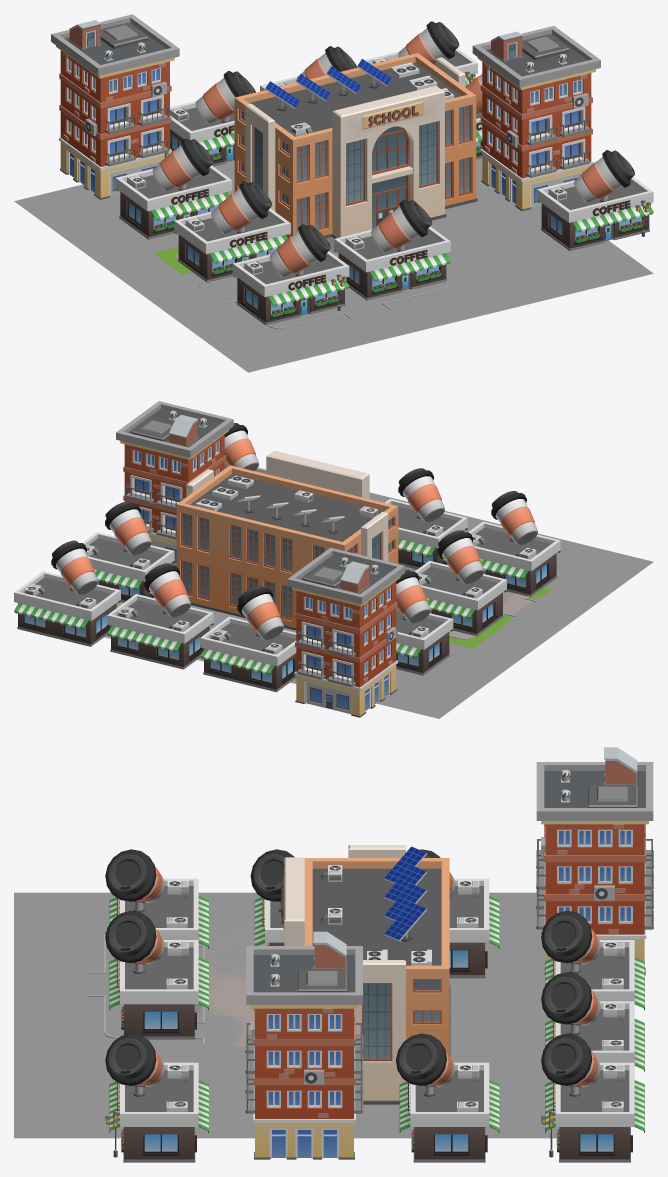
The model's file is block_commercial.glb.
3 views of the same model, one above another, from view 1: azimuth 30°, elevation 25°; view 2: azimuth 150°, elevation 25°; view 3: azimuth 270°, elevation 25° (orthographic). The views are drawn at different scales.
Parts seen in each view (by area): view 1: center_school, building_0_3, building_3_1, building_0_0, building_3_0, building_1_0, building_0_2, building_0_1, ground_3_0, ground_0_0, ground_2_0, ground_1_0 (+11 smaller); view 2: center_school, building_0_3, building_3_1, building_2_3, building_3_3, building_1_3, building_0_1, building_0_0, building_3_2, building_1_0, building_0_2, ground_0_0 (+5 smaller); view 3: center_school, building_3_1, building_0_3, building_3_2, building_3_0, building_3_3, building_1_0, ground_2_0, building_1_3, building_2_3, building_0_0, ground_3_0 (+14 smaller).
Part boxes in pixels (x1,y1,x2,y2): center_school: (234,53,477,238); building_0_3: (51,14,179,199); building_3_1: (472,26,600,211); building_0_0: (232,224,349,325); building_3_0: (537,150,653,250); building_1_0: (334,199,450,300); building_0_2: (115,138,232,239); building_0_1: (174,181,290,282); ground_3_0: (494,240,653,298); ground_0_0: (190,315,349,372); ground_2_0: (406,255,551,322); ground_1_0: (304,290,450,347); center_school: (176,450,398,630); building_0_3: (287,547,405,717); building_3_1: (116,401,233,566); building_2_3: (107,563,213,669); building_3_3: (14,540,120,646); building_1_3: (200,586,296,692); building_0_1: (415,530,506,636); building_0_0: (468,491,560,596); building_3_2: (82,501,174,602); building_1_0: (385,468,467,569); building_0_2: (396,569,453,675); ground_0_0: (544,539,653,600); center_school: (281,845,450,1104); building_3_1: (245,931,363,1159); building_0_3: (536,747,653,975); building_3_2: (396,1033,499,1162); building_3_0: (105,1033,208,1162); building_3_3: (541,1033,644,1162); building_1_0: (105,911,208,1039); ground_2_0: (14,1015,159,1076); building_1_3: (541,911,644,1010); building_2_3: (541,972,644,1071); building_0_0: (105,849,208,948); ground_3_0: (14,1077,123,1138).
Bounding box in the file's own units: 66.27 × 21.64 × 66.08.
49 materials, 49 textured.
